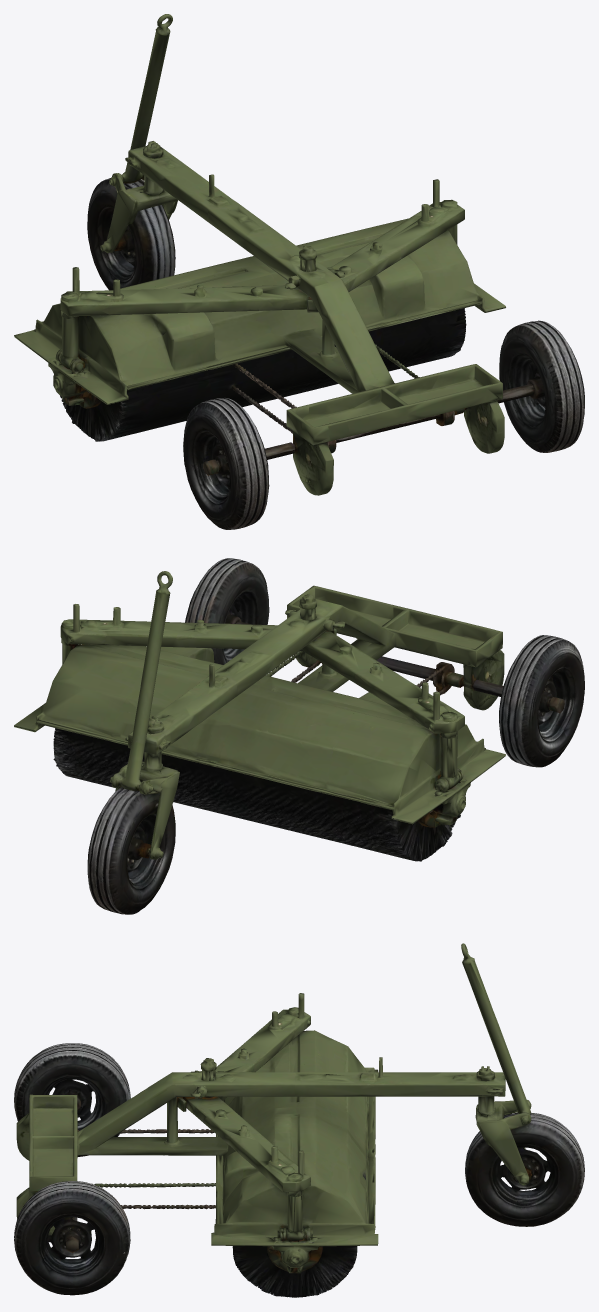
File: vassoura-mecanica_lod0.glb
The picture shows the model from 3 angles, top to bottom: view 1: azimuth 30°, elevation 25°; view 2: azimuth 150°, elevation 25°; view 3: azimuth 270°, elevation 25°; orthographic projection. The views are drawn at different scales.
Parts seen in each view (by area): view 1: tripo_node_fe54337e-25f7-4001-b9c9-de88bed68df3; view 2: tripo_node_fe54337e-25f7-4001-b9c9-de88bed68df3; view 3: tripo_node_fe54337e-25f7-4001-b9c9-de88bed68df3.
Boxes of the visible parts, bbox=[...] form: tripo_node_fe54337e-25f7-4001-b9c9-de88bed68df3: bbox=[14, 14, 584, 529]; tripo_node_fe54337e-25f7-4001-b9c9-de88bed68df3: bbox=[14, 558, 584, 914]; tripo_node_fe54337e-25f7-4001-b9c9-de88bed68df3: bbox=[14, 943, 584, 1297].
Bounding box in the file's own units: 2.96 × 2.15 × 4.
1 material, 1 textured.
